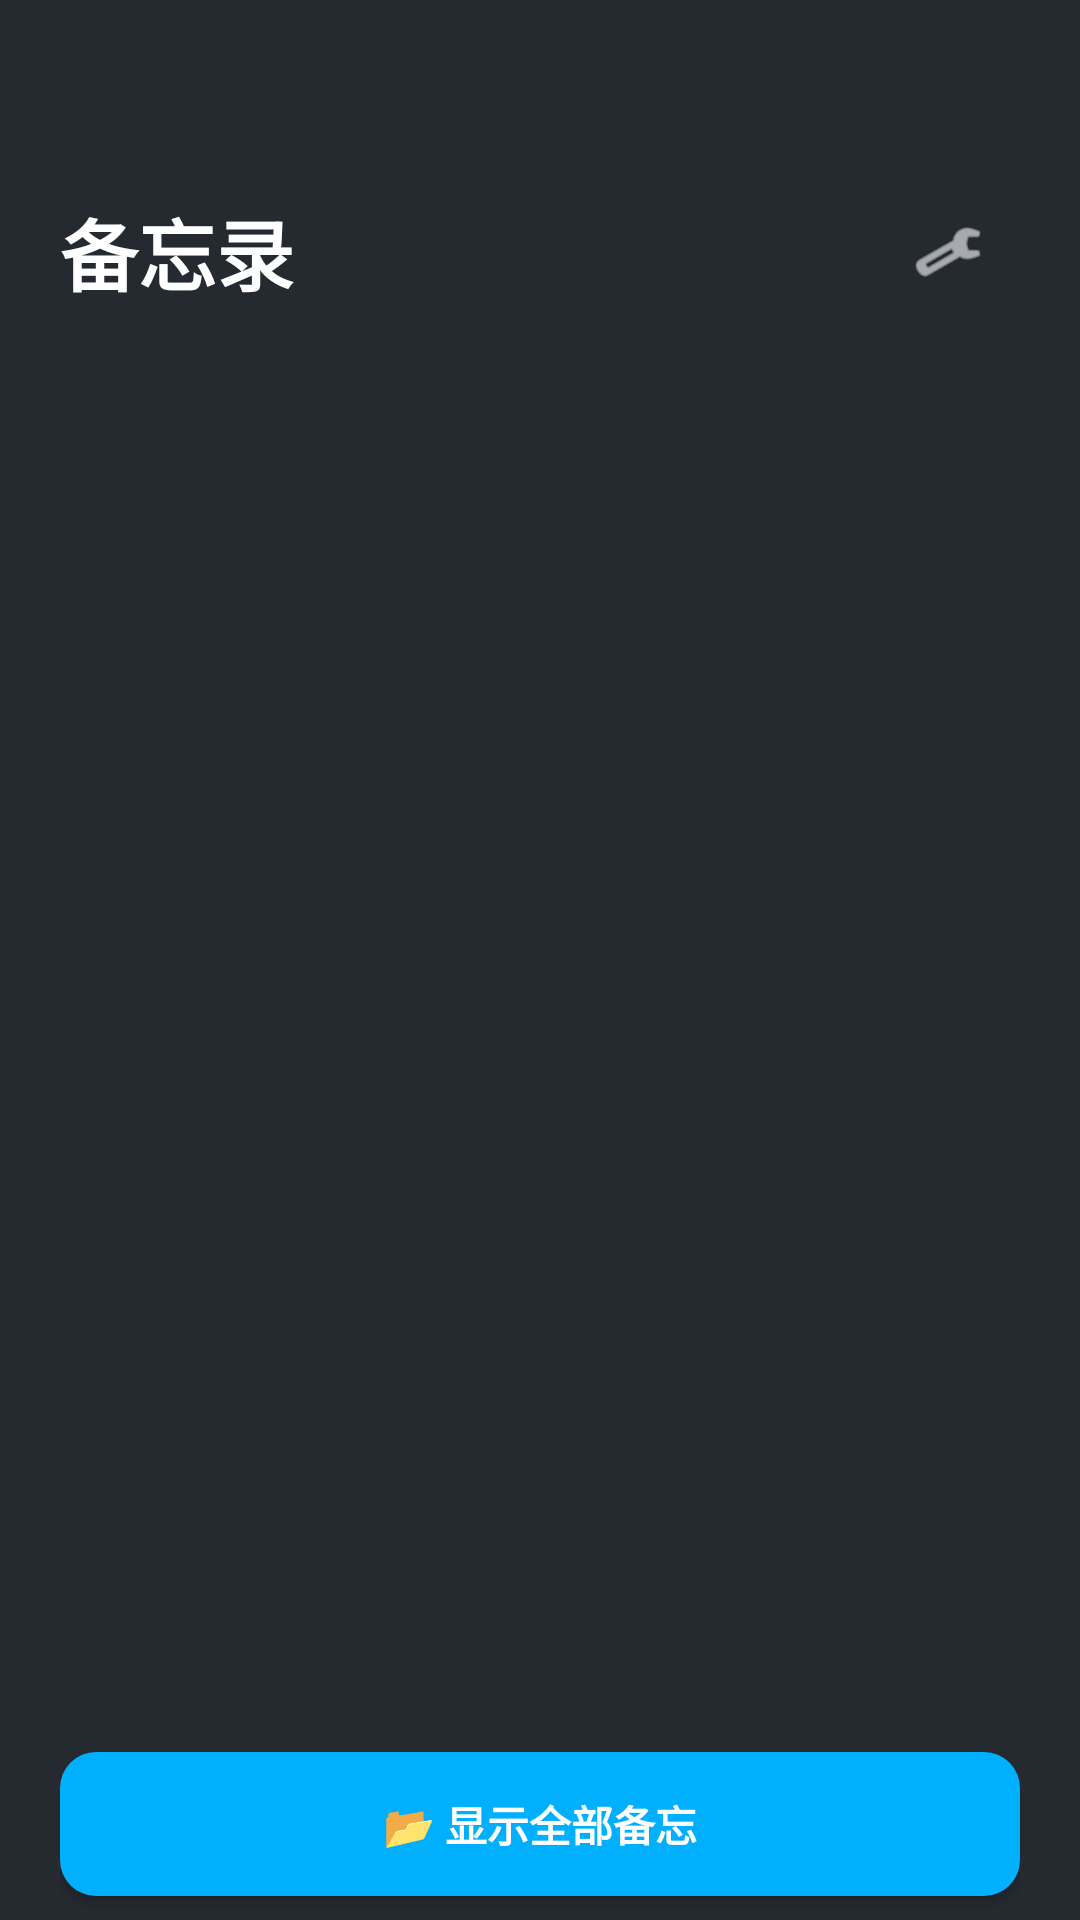

Named icons in this screenshot (1080px×1920px) and their centers, (x=x, y=y):
AI 与日程设置: (x=947, y=252)
